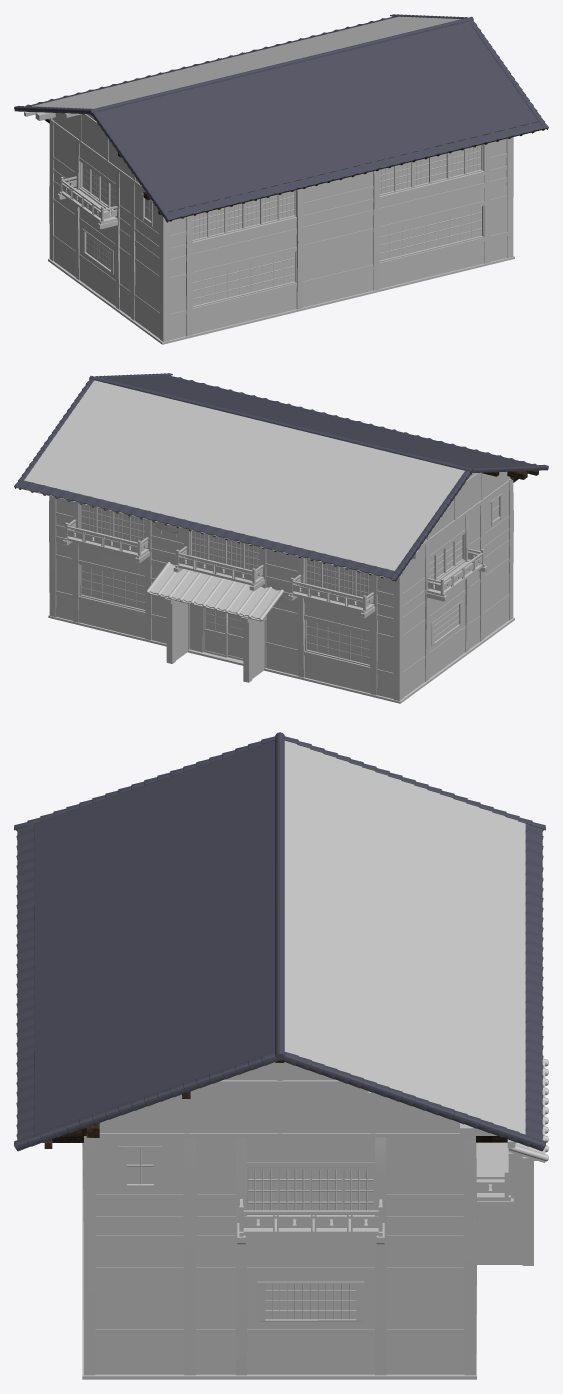
The model's file is m_house5.fbx.
3 renders of one model, top to bottom at view 1: azimuth 30°, elevation 25°; view 2: azimuth 150°, elevation 25°; view 3: azimuth 270°, elevation 25°, orthographic. The views are drawn at different scales.
Parts seen in each view (by area): view 1: mesh_house5_LOD0; view 2: mesh_house5_LOD0; view 3: mesh_house5_LOD0.
Boxes of the visible parts, x1=… form: mesh_house5_LOD0: x1=14, y1=14, x2=548, y2=344; mesh_house5_LOD0: x1=14, y1=373, x2=548, y2=703; mesh_house5_LOD0: x1=14, y1=732, x2=548, y2=1379.
Size of what is drawn, in the model's own units: 20.27 by 9.82 by 14.06.
